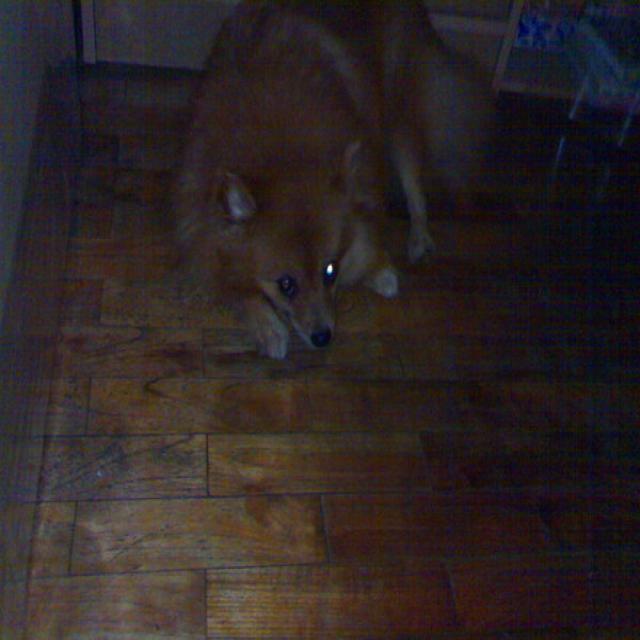Dog: (173, 10, 618, 382)
